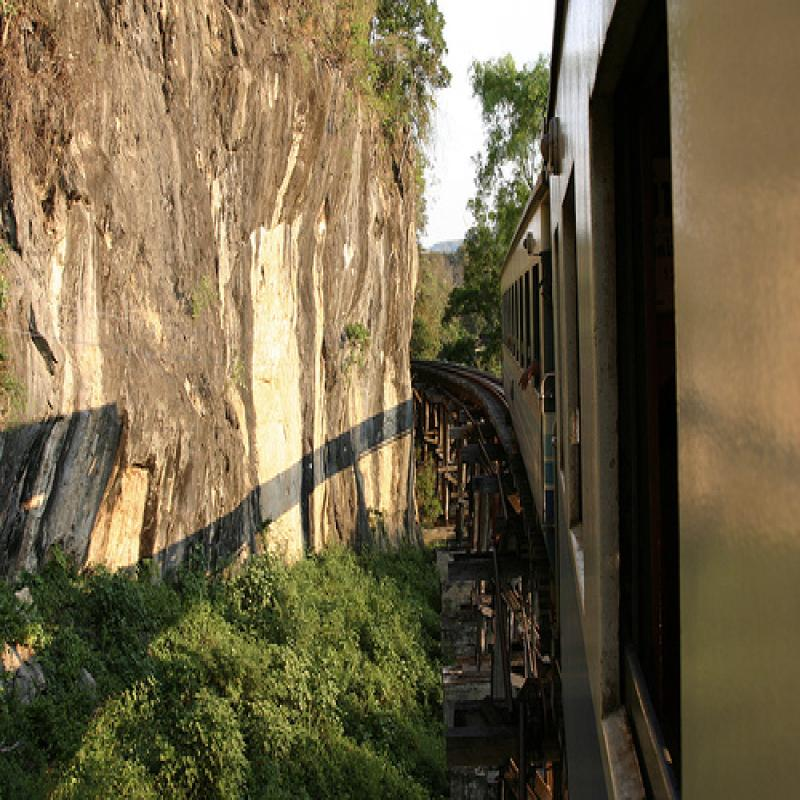train: (497, 1, 799, 796)
